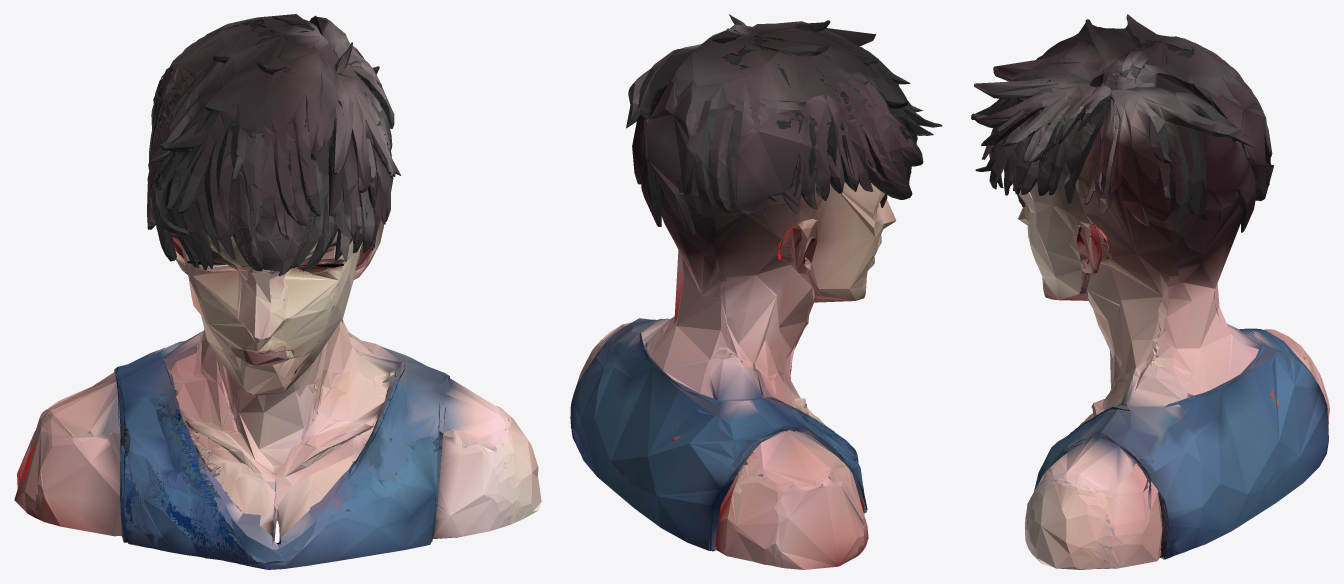
File: avatar-optimized.glb
3 views of the same model, side by side, from view 1: azimuth 30°, elevation 25°; view 2: azimuth 150°, elevation 25°; view 3: azimuth 270°, elevation 25° (orthographic). The views are drawn at different scales.
Parts seen in each view (by area): view 1: tmpdbxjf_uh.obj; view 2: tmpdbxjf_uh.obj; view 3: tmpdbxjf_uh.obj.
Boxes of the visible parts, <box> form: tmpdbxjf_uh.obj: <box>14,14,541,569</box>; tmpdbxjf_uh.obj: <box>570,14,942,569</box>; tmpdbxjf_uh.obj: <box>971,14,1329,569</box>.
Size of the model in its own units: 1.17 by 1.37 by 1.02.
1 material, 1 textured.
